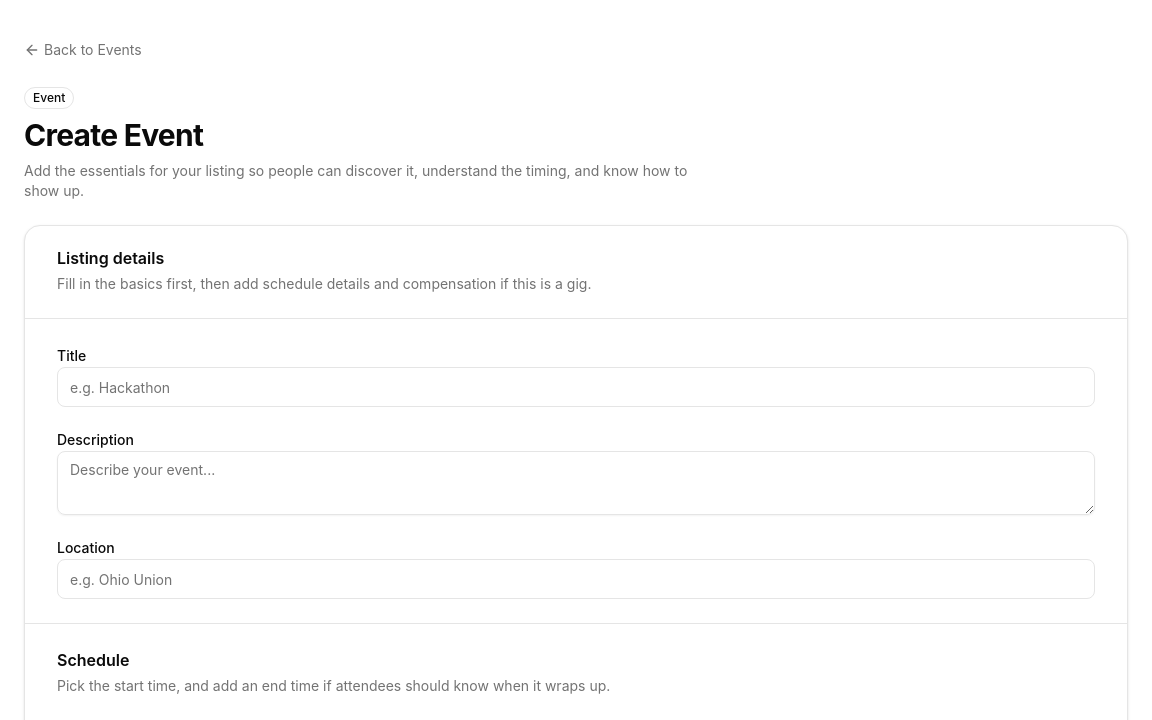
Test case: [phase:6] [regression:always] EventCreationPage › shows a validation message when required fields are missing
This screenshot has width=1152, height=720.
Type "Campus Hack Night" into the field labelled "Title".
click(576, 387); type("Campus Hack Night")  # box x1=57 y1=367 x2=1095 y2=407
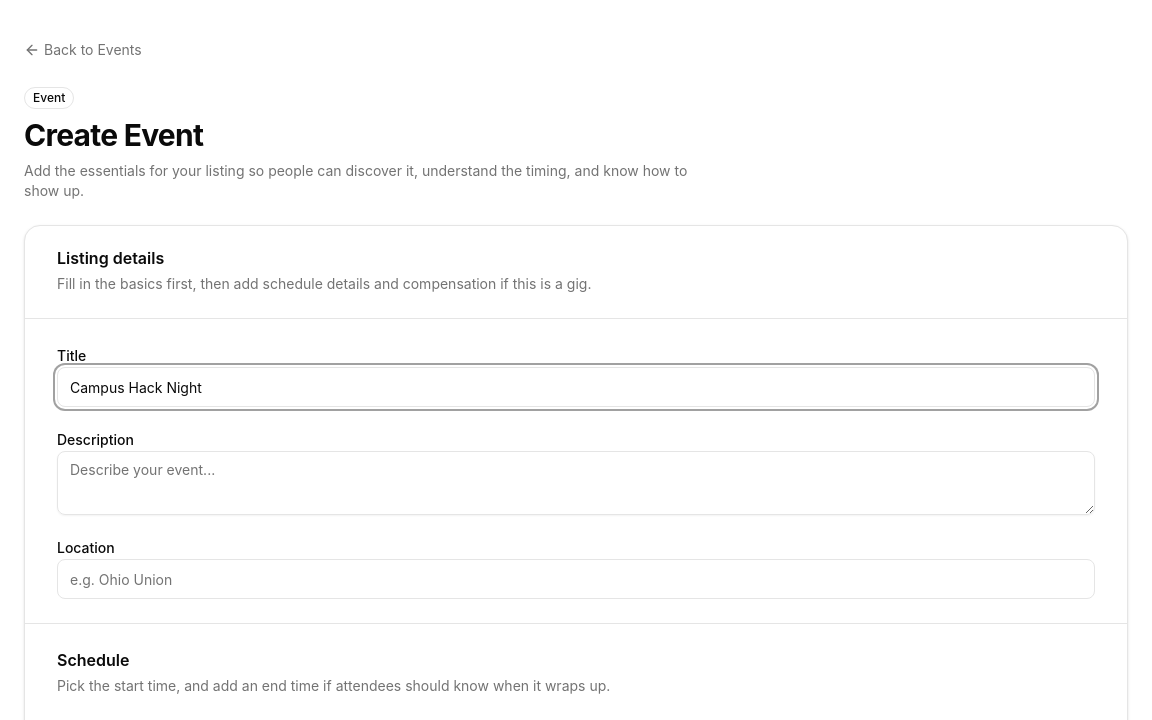
Type "Build with classmates all evening." into the text box labelled "Description".
click(576, 483); type("Build with classmates all evening.")  # box x1=57 y1=451 x2=1095 y2=515
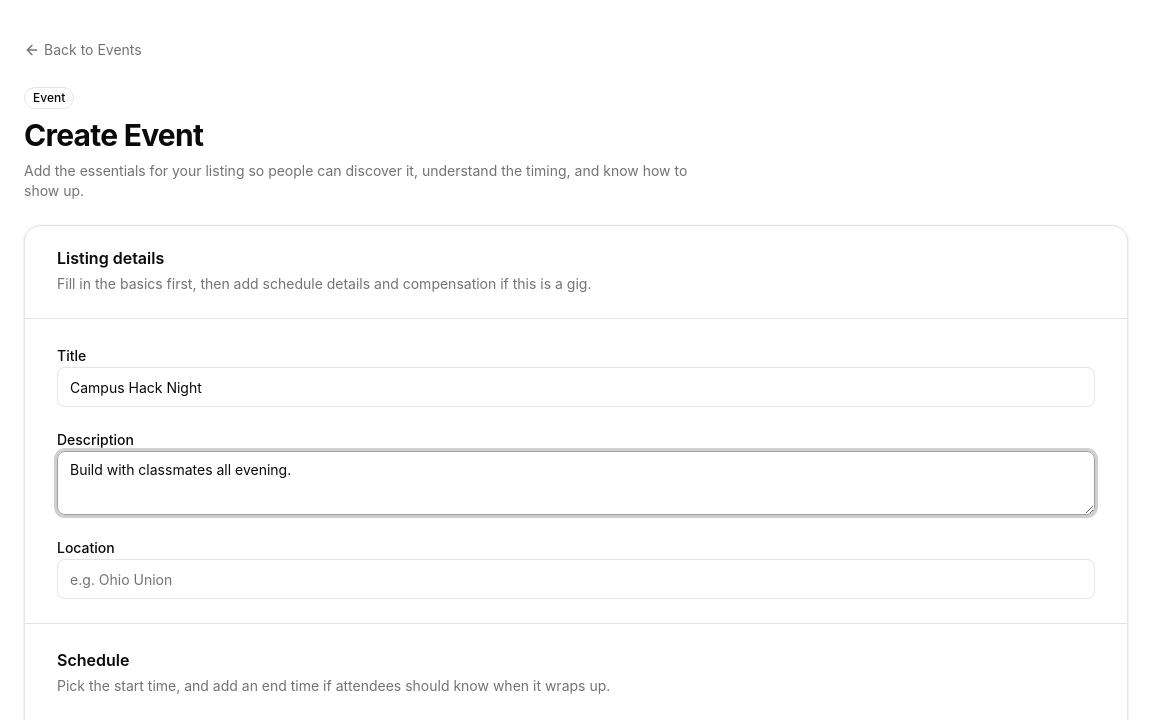
Type "Ohio Union" into the field labelled "Location".
click(576, 579); type("Ohio Union")  # box x1=57 y1=559 x2=1095 y2=599
(page scrolled)
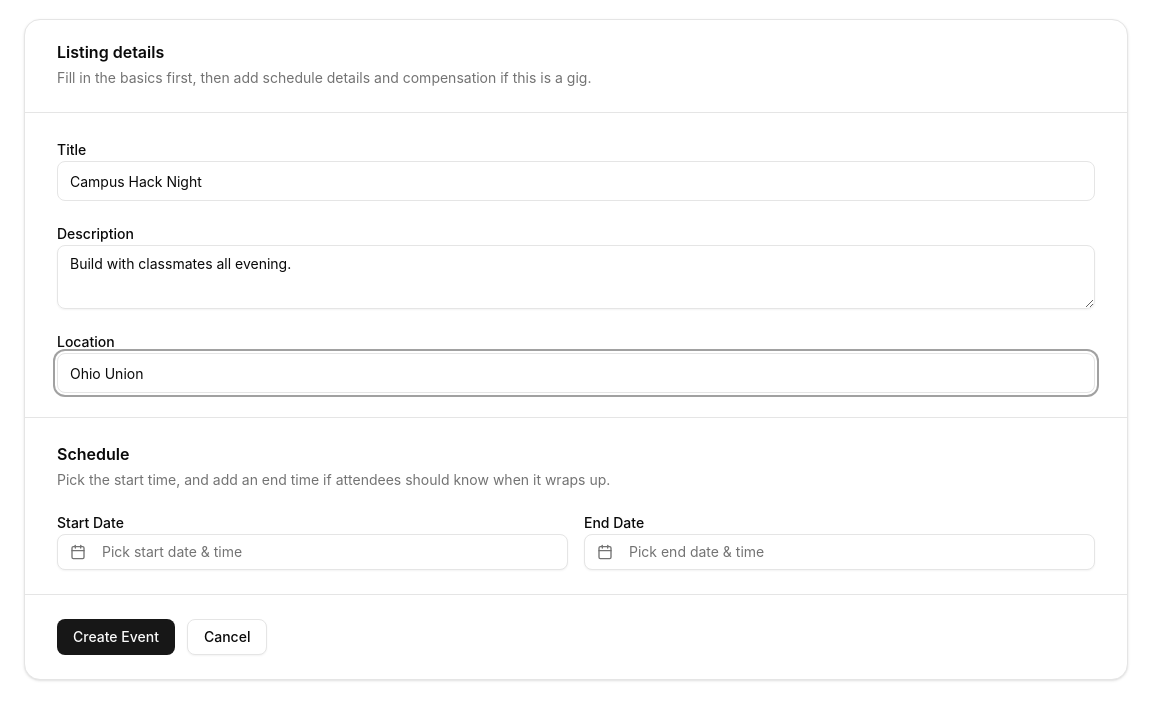
Click the button "Create Event".
click(116, 637)  # box x1=57 y1=619 x2=175 y2=655
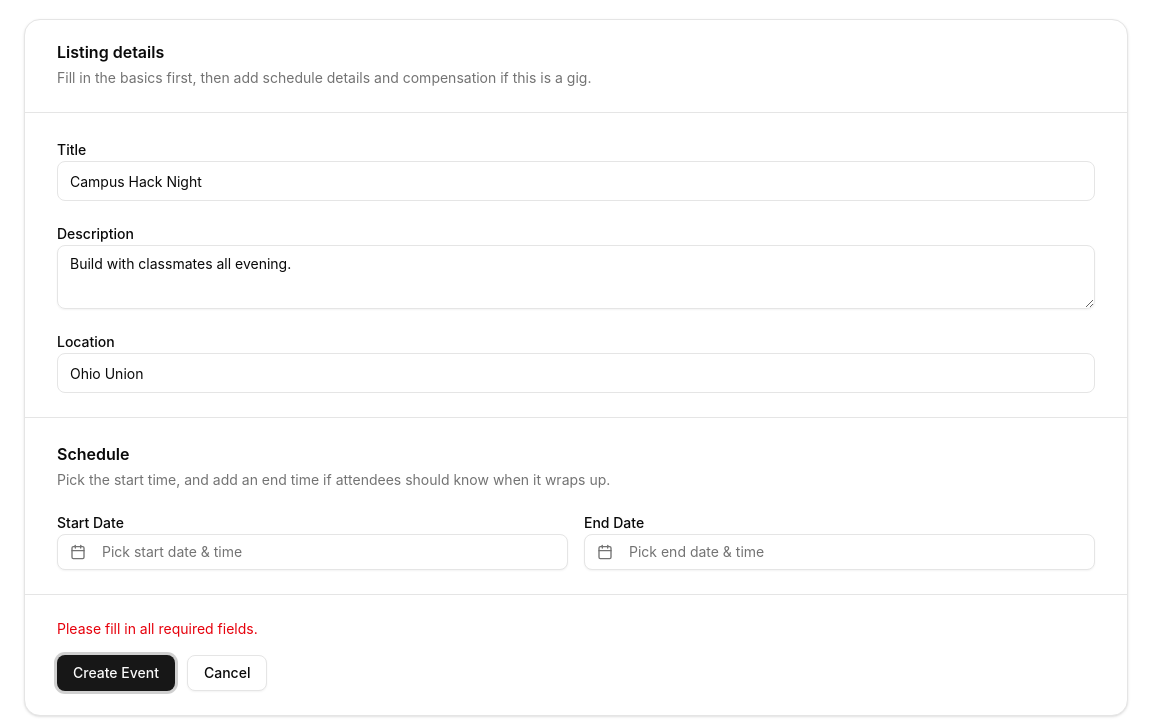
Now the text "Please fill in all required fields." is shown, box x1=57 y1=620 x2=258 y2=637
